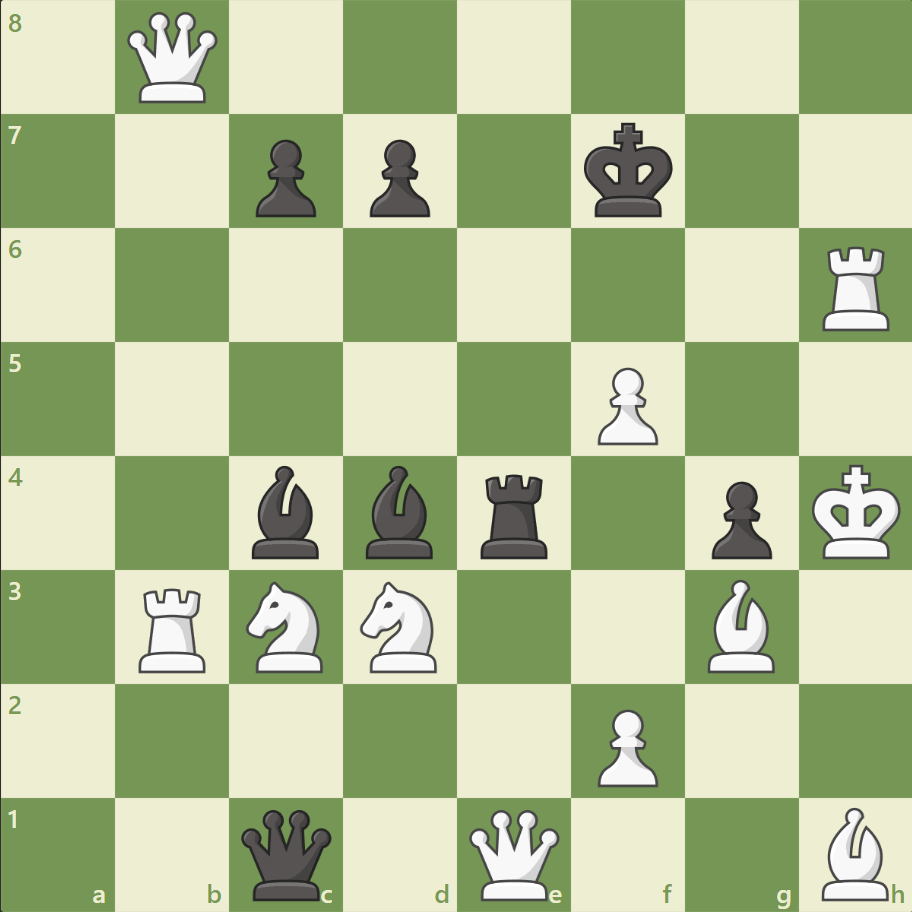B: (812, 801, 896, 904), (698, 574, 782, 676)
K: (806, 458, 906, 566)
N: (351, 575, 449, 677), (238, 575, 335, 677)
P: (588, 359, 662, 450), (588, 700, 662, 791)
Q: (124, 9, 223, 108), (464, 804, 563, 903)
R: (814, 239, 897, 336), (133, 579, 215, 676)
b: (244, 460, 328, 563), (358, 460, 442, 563)
k: (579, 117, 679, 225)
p: (247, 132, 322, 223), (701, 473, 776, 564), (361, 132, 435, 223)
q: (237, 804, 336, 903)
r: (473, 466, 556, 563)
